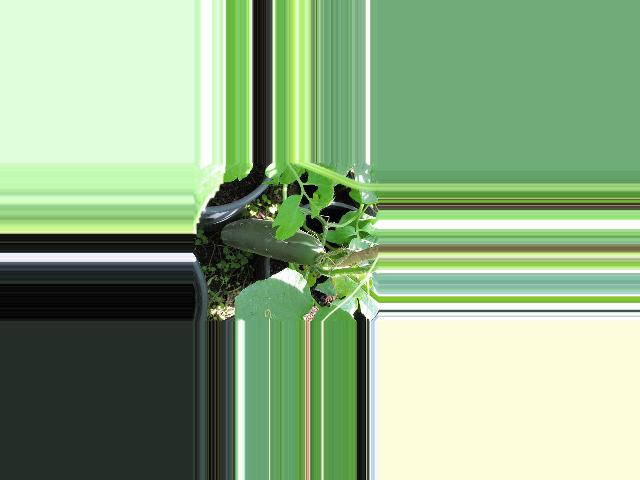cucumber: (221, 219, 324, 265)
